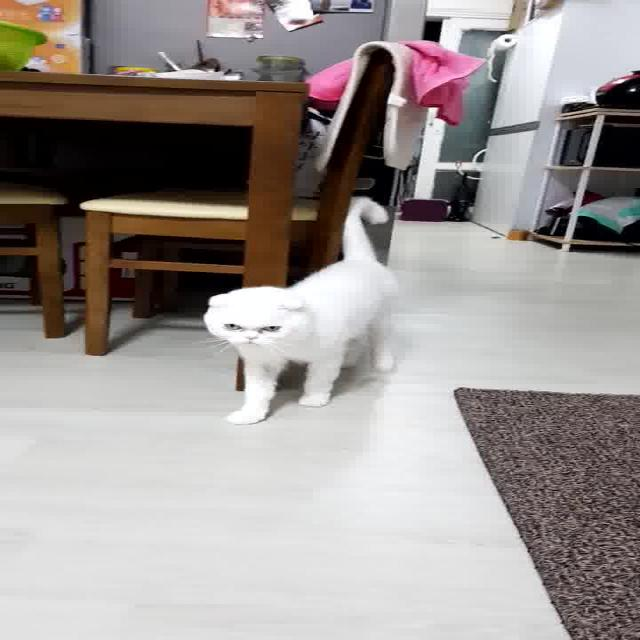cat: (202, 196, 412, 425)
